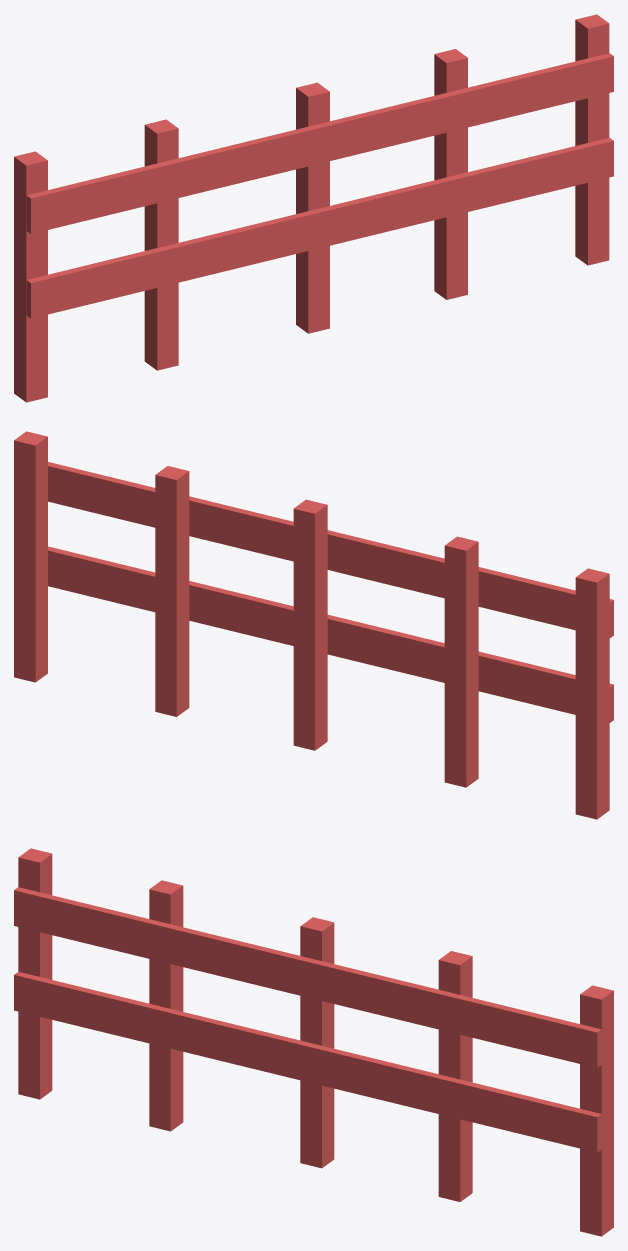
The model's file is fencemodel.fbx.
3 renders of one model, top to bottom at view 1: azimuth 30°, elevation 25°; view 2: azimuth 150°, elevation 25°; view 3: azimuth 330°, elevation 25°, orthographic.
Parts seen in each view (by area): view 1: pCube8; view 2: pCube8; view 3: pCube8.
Part boxes in pixels (x1,y1,x2,y2): pCube8: (14, 14, 613, 402); pCube8: (14, 431, 613, 819); pCube8: (14, 848, 613, 1236).
Size of the model in its own units: 2.06 by 0.7993 by 0.1034.
